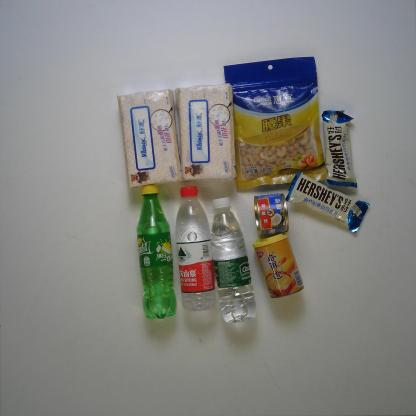Canned Food: (251, 230, 308, 303), (249, 188, 293, 240)
Chocolate: (283, 169, 373, 238), (319, 109, 361, 191)
Dried Fruit: (219, 54, 335, 193)
Drink: (208, 195, 259, 327), (134, 178, 180, 322), (174, 180, 218, 314)
Tissue: (112, 87, 181, 191), (173, 82, 237, 185)
